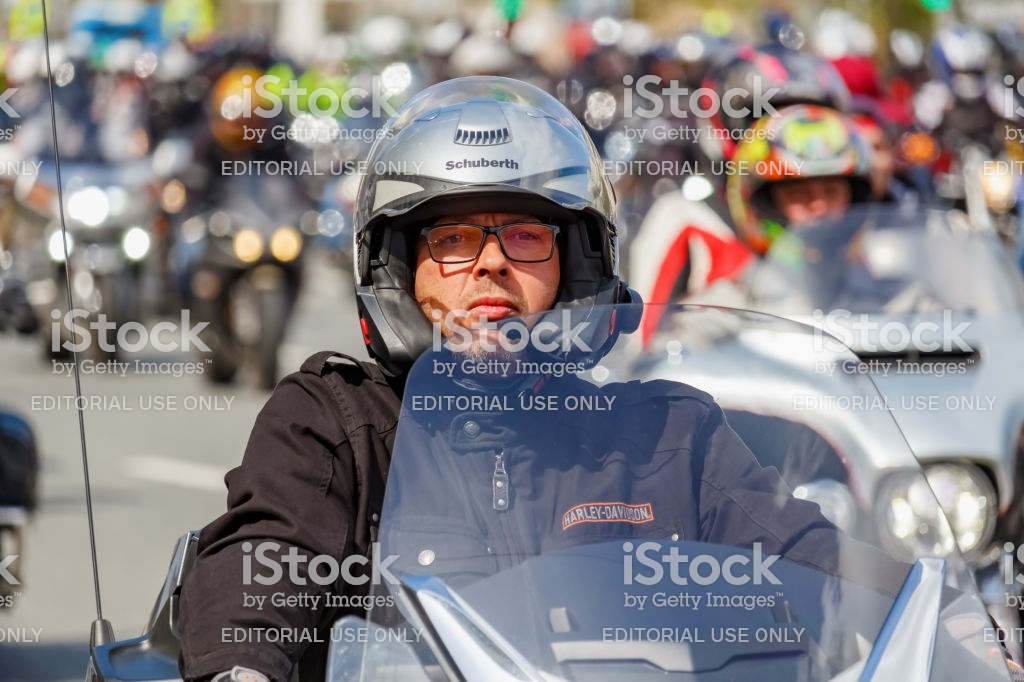helmet: (349, 93, 634, 366)
